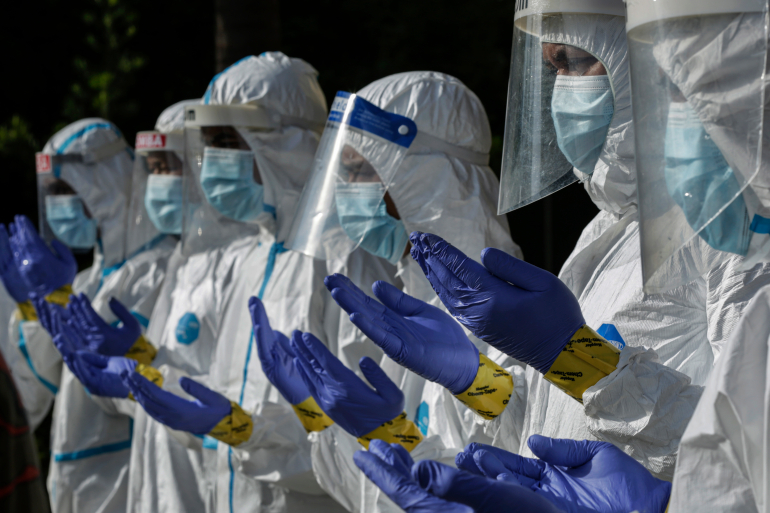Coverall: (312, 68, 527, 513), (188, 38, 355, 513), (132, 75, 271, 513), (10, 96, 150, 513)
Face_Shield: (622, 1, 768, 301), (493, 1, 633, 224), (299, 88, 420, 273), (174, 98, 278, 255), (126, 128, 193, 262), (35, 149, 108, 265)
Gloves: (405, 223, 618, 400), (322, 264, 522, 422), (451, 432, 694, 513), (284, 320, 420, 456), (351, 436, 575, 513), (244, 287, 334, 438), (117, 365, 254, 454)
with_mask: (656, 54, 760, 274), (535, 33, 620, 184), (333, 153, 408, 265), (201, 118, 264, 228), (44, 166, 96, 250), (145, 148, 177, 238)
